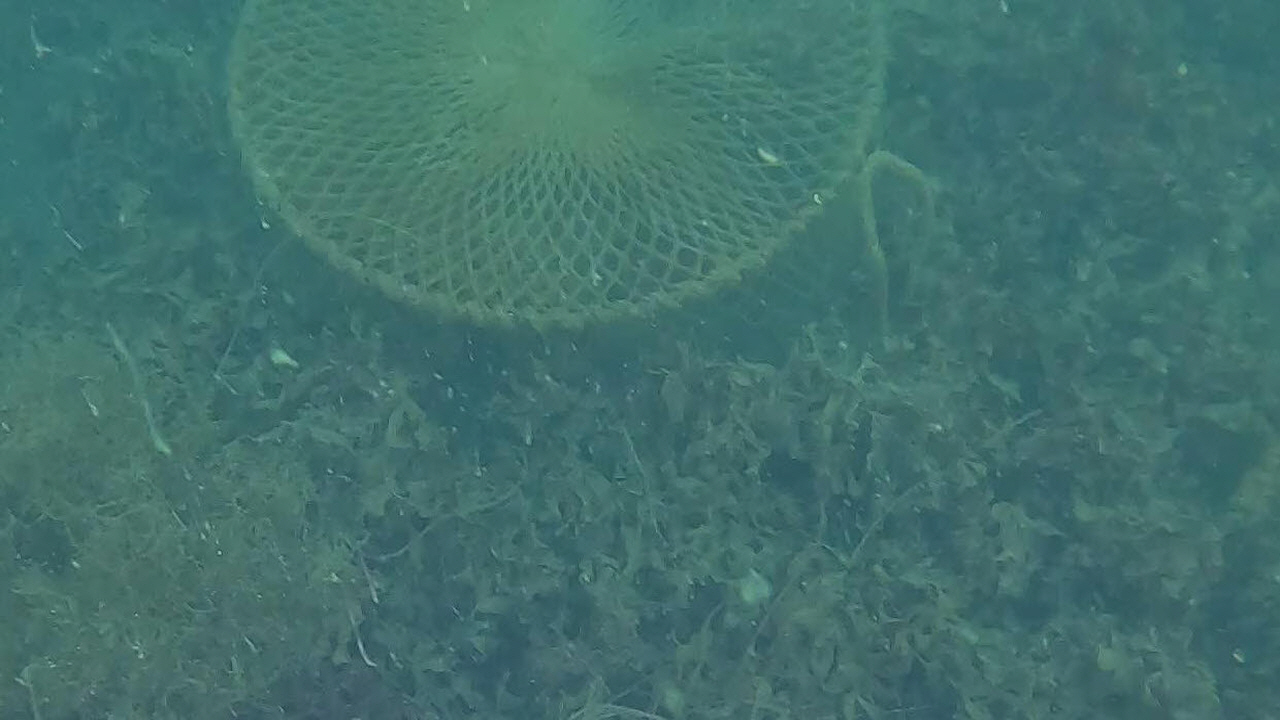circular fish trap: (224, 0, 890, 334)
rope: (856, 148, 936, 323)
